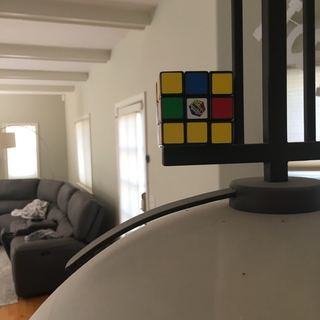face: (159, 70, 233, 145)
